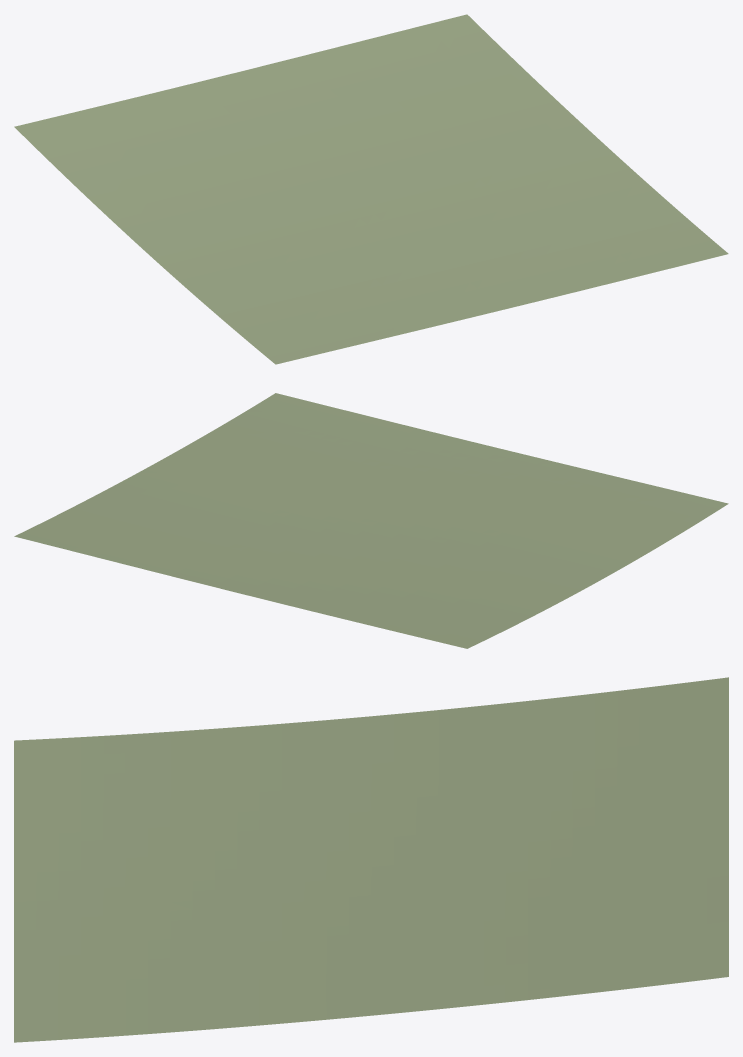
The model's file is desert-27-12.glb.
3 renders of one model, top to bottom at view 1: azimuth 30°, elevation 25°; view 2: azimuth 150°, elevation 25°; view 3: azimuth 270°, elevation 25°, orthographic. The views are drawn at different scales.
Parts seen in each view (by area): view 1: desert-27-12; view 2: desert-27-12; view 3: desert-27-12.
Boxes of the visible parts, <box> form: desert-27-12: <box>14,14,728,364</box>; desert-27-12: <box>14,393,728,648</box>; desert-27-12: <box>14,677,728,1042</box>.
Size of the model in its own units: 512 by 52.79 by 512.
